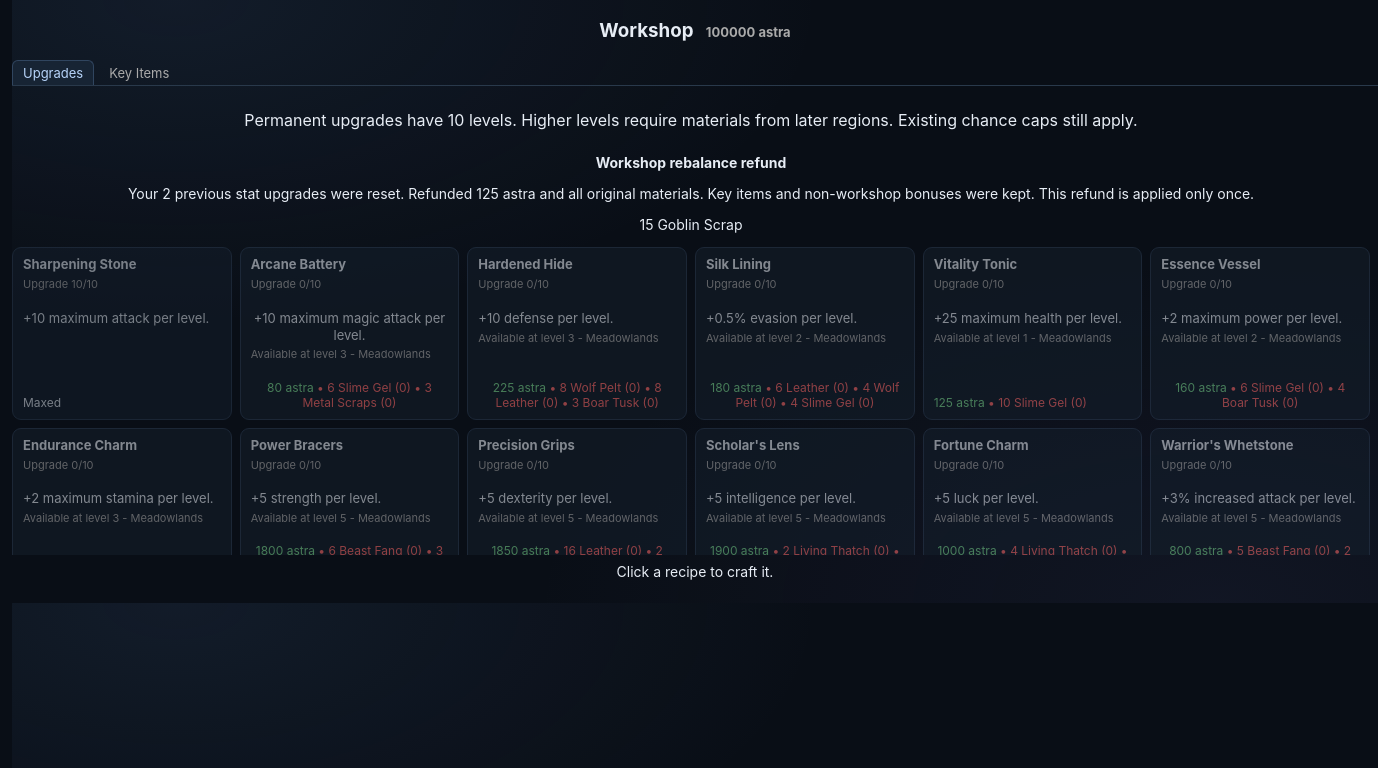
Test: workshop displays the saved refund receipt and keeps maxed ranks and owned keys disabled
This screenshot has width=1378, height=768.
Expected: the message shows "Your 2 previous stat upgrades were reset.", [128,154,1254,233]
Expected: the message shows "Refunded 125 astra", [128,154,1254,233]
Click the tab "Key Items". click: (139, 73)
box: [98,60,180,85]
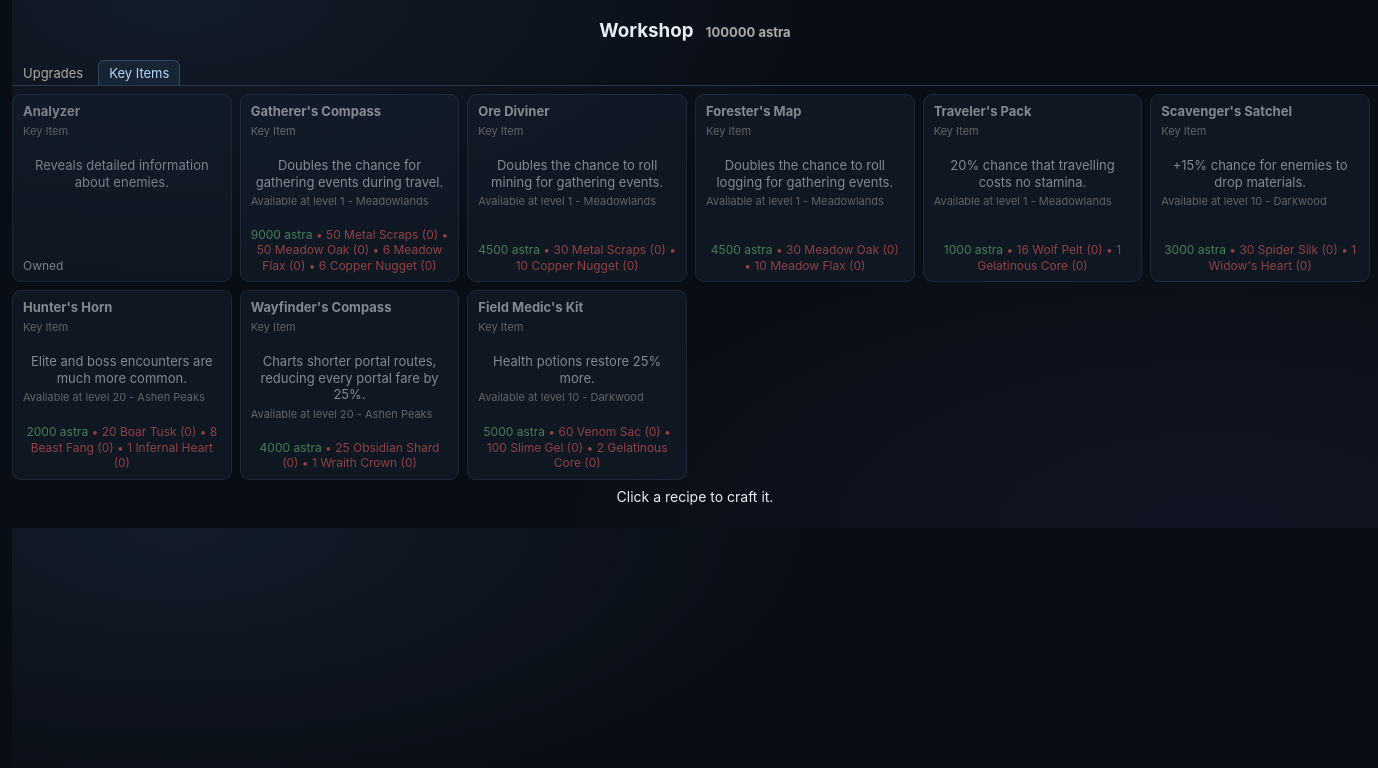
Result: the button "Analyzer" is disabled at [12,94,232,282]
Result: the text "Owned" is shown at [23,258,63,274]
